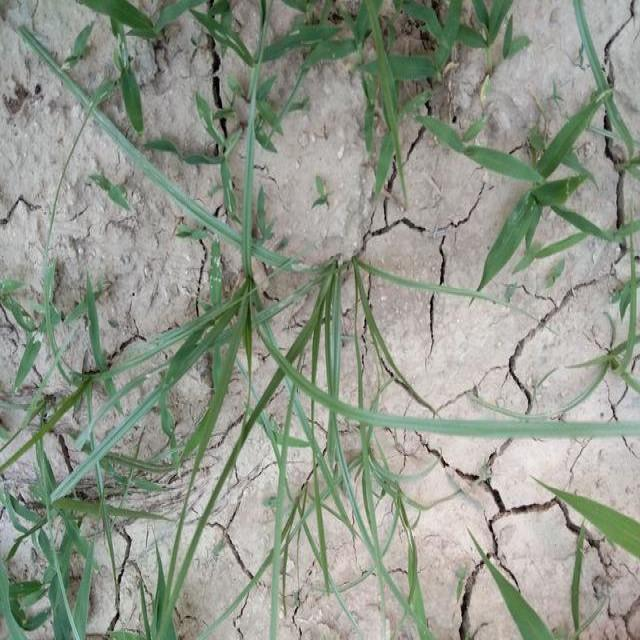weed: (113, 292, 416, 640), (110, 0, 534, 184), (0, 302, 117, 640), (183, 167, 324, 429), (477, 133, 607, 276)
